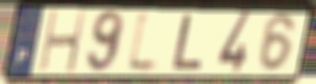4: (216, 9, 251, 75)
6: (259, 12, 300, 73)
9: (86, 7, 128, 76)
H: (37, 9, 88, 75)
L: (124, 7, 163, 77), (169, 12, 205, 72)
